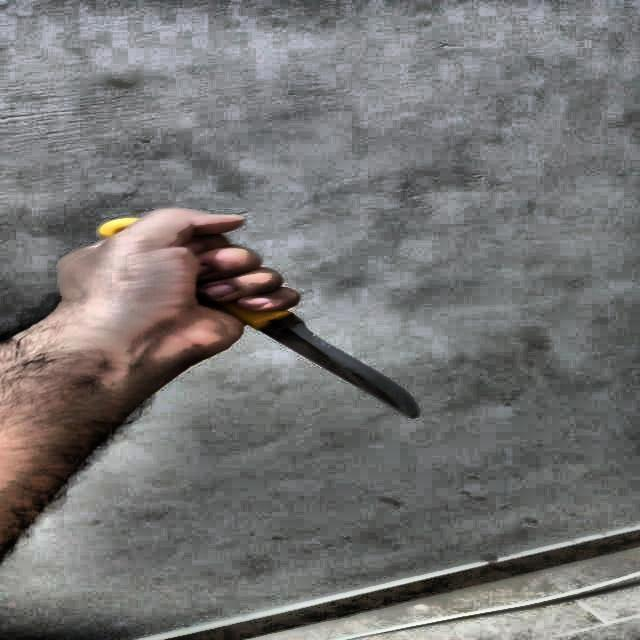knife: (98, 218, 420, 418)
